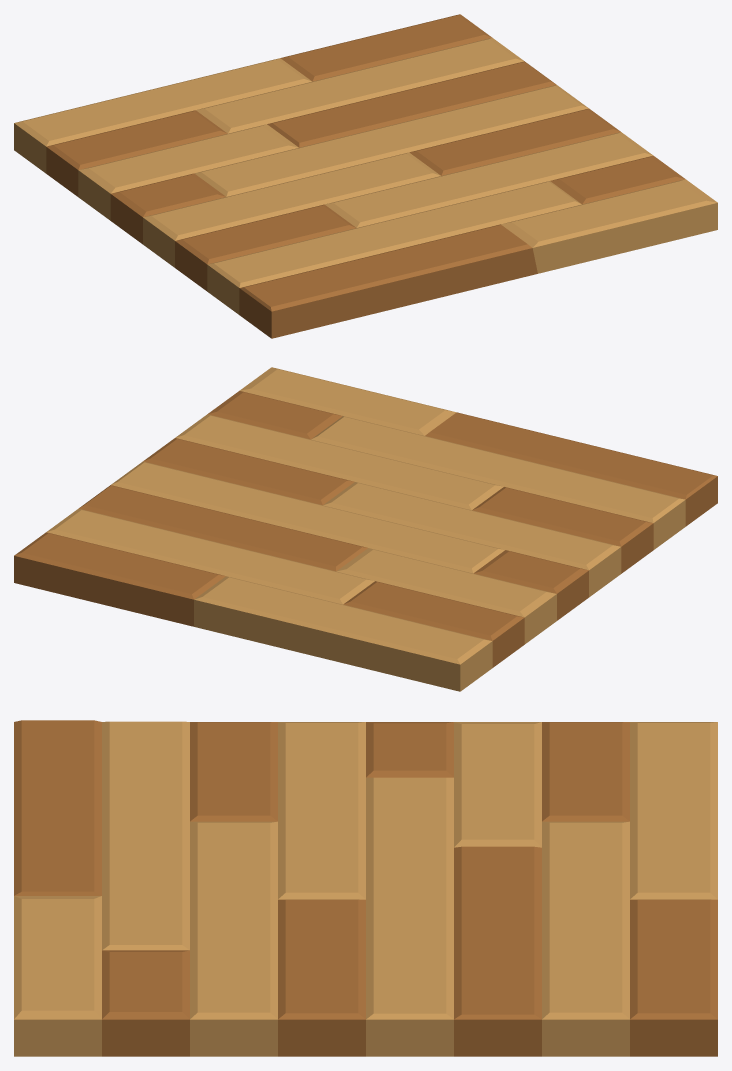
File: Floor_2_1.glb
3 renders of one model, top to bottom at view 1: azimuth 30°, elevation 25°; view 2: azimuth 150°, elevation 25°; view 3: azimuth 270°, elevation 25°, orthographic. The views are drawn at different scales.
Visible parts, largest first — view 1: Floor_2_1; view 2: Floor_2_1; view 3: Floor_2_1.
Part boxes in pixels (x1,y1,x2,y2): Floor_2_1: (14,14,717,338); Floor_2_1: (14,367,717,691); Floor_2_1: (14,720,717,1056).
Bounding box in the file's own units: 4 × 0.2511 × 4.
1 material, 1 textured.
